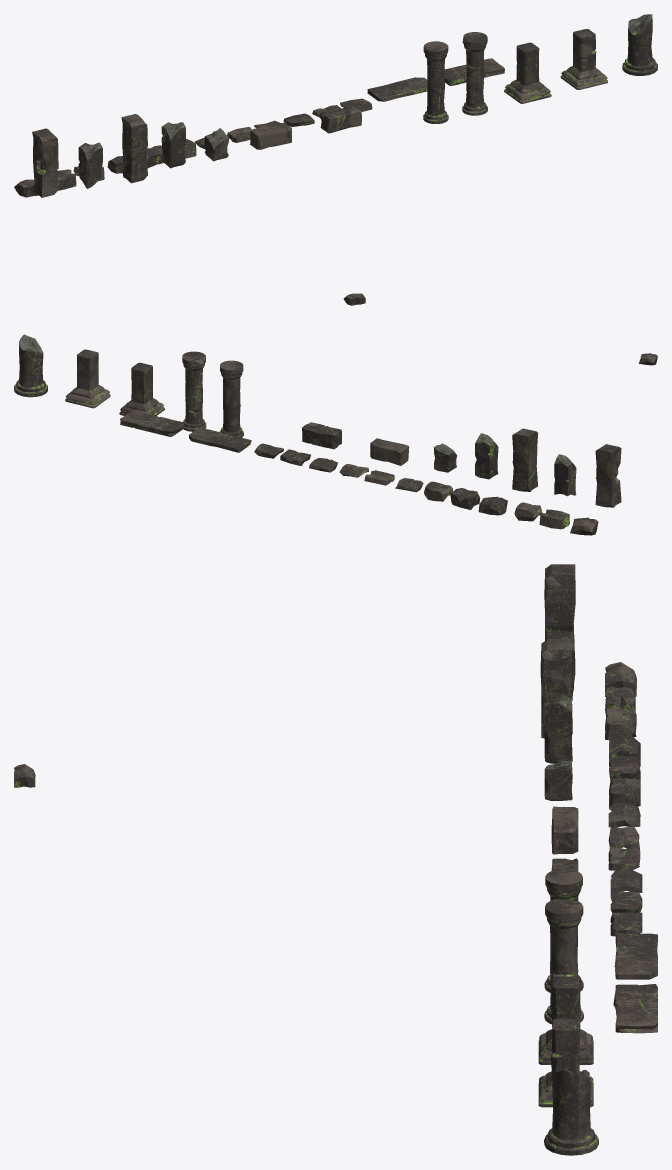
The model's file is sozai02.fbx.
3 renders of one model, top to bottom at view 1: azimuth 30°, elevation 25°; view 2: azimuth 150°, elevation 25°; view 3: azimuth 270°, elevation 25°, orthographic. The views are drawn at different scales.
Parts seen in each view (by area): view 1: sozai_2_20, sozai_2_22, sozai_2_13, sozai_2_24, sozai_2_19, sozai_2_17, sozai_2_14, sozai_2_23, sozai_2_15, sozai_2_25, sozai_2_16, sozai_2_18 (+2 smaller); view 2: sozai_2_20, sozai_2_13, sozai_2_17, sozai_2_14, sozai_2_24, sozai_2_19, sozai_2_22, sozai_2_26, sozai_2_23, sozai_2_25, sozai_2_18, sozai_2_15 (+11 smaller); view 3: sozai_2_14, sozai_2_20, sozai_2_24, sozai_2_22, sozai_2_13, sozai_2_26, sozai_2_17, sozai_2_25, sozai_2_23, sozai_2_16, sozai_2_19, sozai_2_21 (+2 smaller).
Part boxes in pixels (x1,y1,x2,y2): sozai_2_20: (462,32,487,115); sozai_2_22: (504,42,551,103); sozai_2_13: (560,29,607,89); sozai_2_24: (32,128,58,197); sozai_2_19: (423,41,448,123); sozai_2_17: (121,114,147,183); sozai_2_14: (622,14,657,75); sozai_2_23: (161,122,185,168); sozai_2_15: (78,142,102,188); sozai_2_25: (367,77,427,101); sozai_2_16: (250,123,291,149); sozai_2_18: (320,105,361,133); sozai_2_20: (182,351,206,431); sozai_2_13: (65,349,110,408); sozai_2_17: (512,428,537,491); sozai_2_14: (14,334,47,397); sozai_2_24: (595,444,621,507); sozai_2_19: (219,360,243,437); sozai_2_22: (119,362,164,415); sozai_2_26: (120,410,184,436); sozai_2_23: (475,433,498,479); sozai_2_25: (189,427,251,452); sozai_2_18: (302,422,341,449); sozai_2_15: (554,454,576,496); sozai_2_14: (544,1068,598,1155); sozai_2_20: (544,899,583,1024); sozai_2_24: (544,564,575,663); sozai_2_22: (538,976,593,1064); sozai_2_13: (538,1018,593,1107); sozai_2_26: (613,984,657,1033); sozai_2_17: (540,639,571,738); sozai_2_25: (614,933,657,979); sozai_2_23: (544,696,572,763); sozai_2_16: (551,806,578,854); sozai_2_19: (544,869,583,992); sozai_2_21: (544,760,572,800).
Size of the model in its own units: 26.91 by 3.46 by 15.79.
